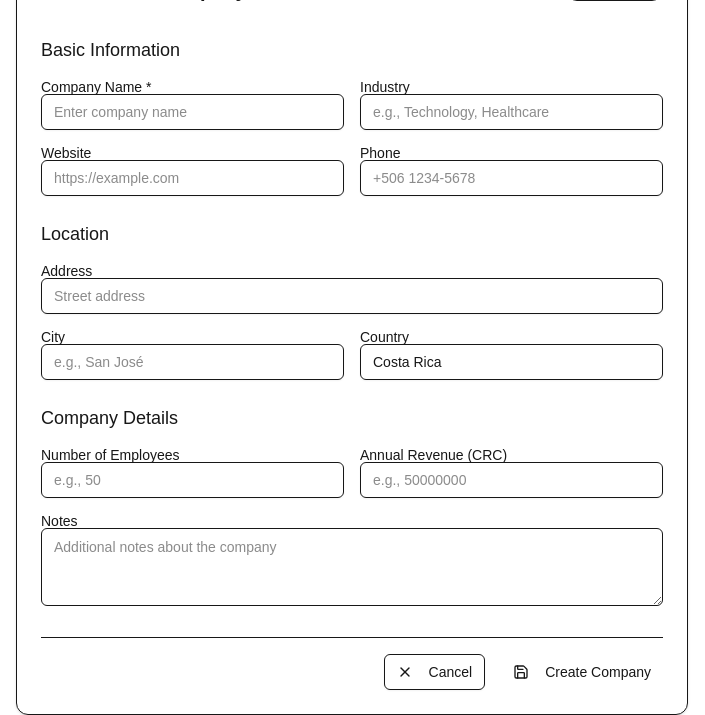
Test: CompanyForm › should validate required fields
(page scrolled)
// Try to submit without filling required fields
Click the button "Create Company" at (582, 672), box [501, 654, 663, 690]
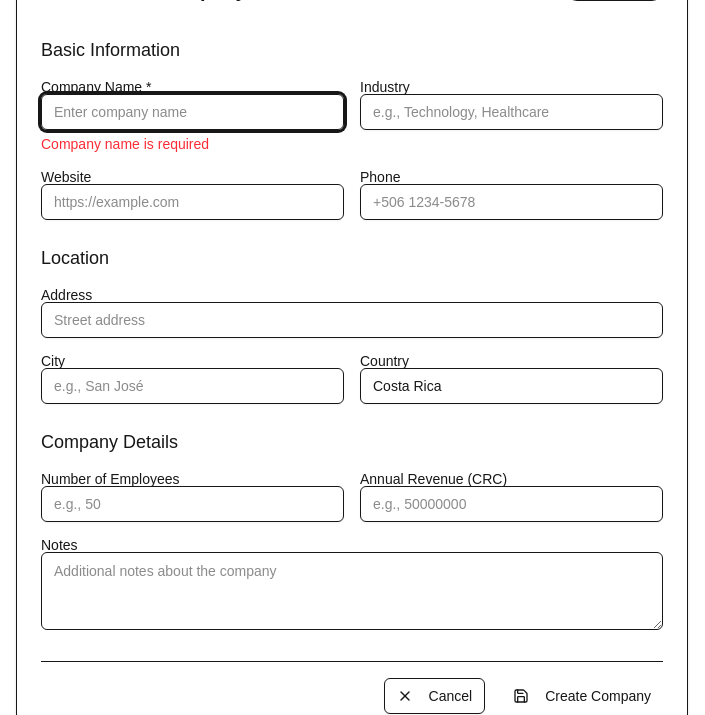
Now the text "Company name is required" is shown, box [41, 136, 209, 152]
